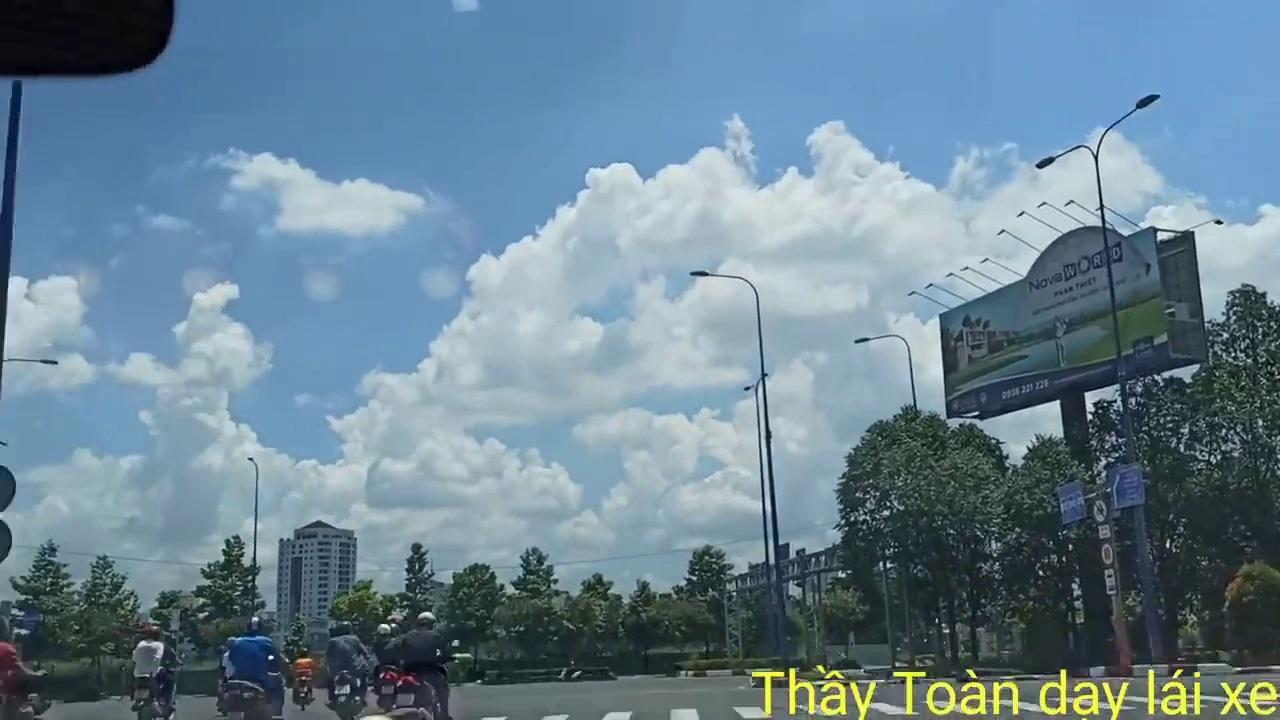Biển phụ: (1102, 568, 1120, 598)
Chỉ hướng đường: (1105, 464, 1147, 509)
Cấm xe máy: (1092, 497, 1109, 524)
Làn đường cho từng xe: (1056, 480, 1088, 524)
